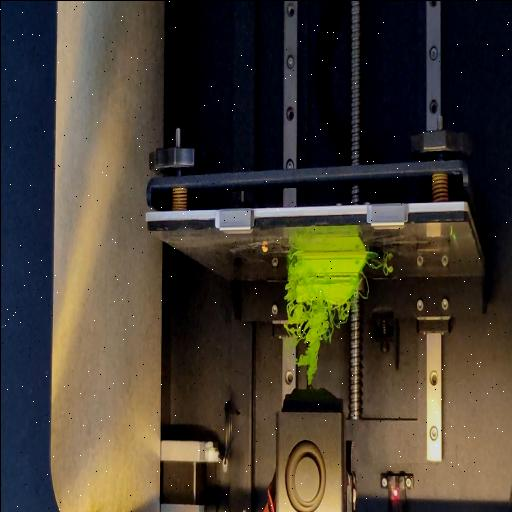spaghetti: (284, 296, 350, 384), (284, 252, 298, 300), (368, 256, 394, 272), (360, 267, 368, 301)
